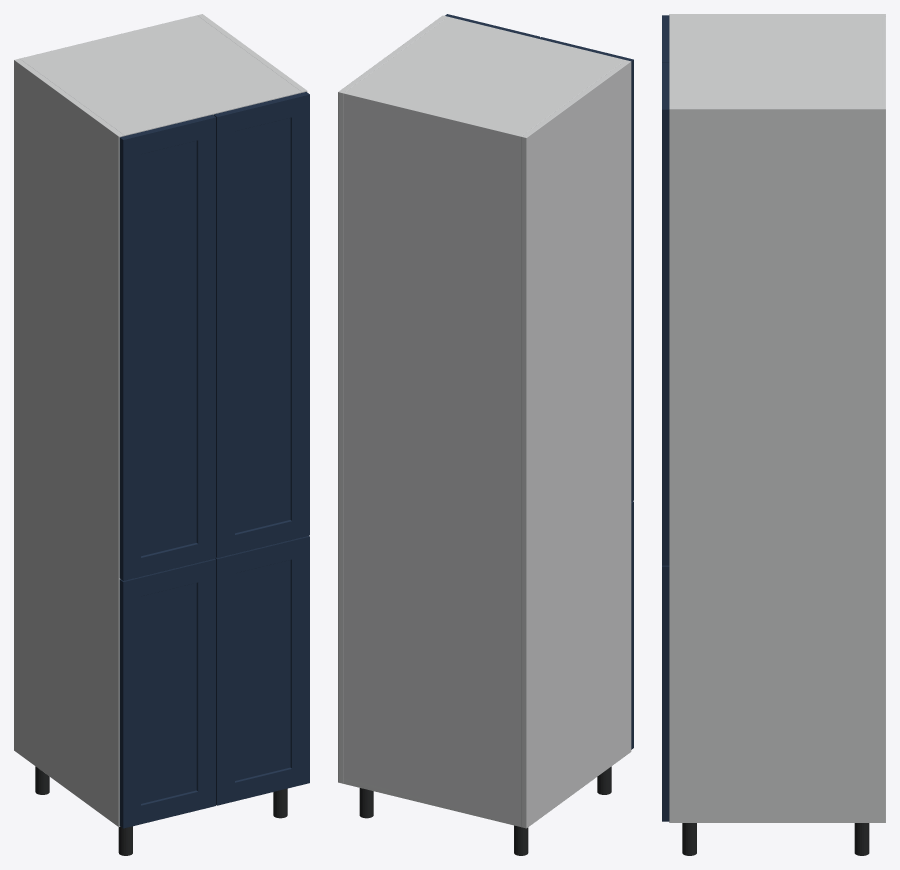
The model's file is oppein-ply-bss-pc2484.glb.
The picture shows the model from 3 angles, left to right: view 1: azimuth 30°, elevation 25°; view 2: azimuth 150°, elevation 25°; view 3: azimuth 270°, elevation 25°; orthographic projection. The views are drawn at different scales.
Visible parts, largest first — view 1: Cabinet side, Upper pantry door, Upper pantry door.001, Lower pantry door, Lower pantry door.001, Cabinet top, Cabinet side.001; view 2: Cabinet back, Cabinet side, Cabinet top, Cabinet side.001, Upper pantry door, Lower pantry door, Cabinet bottom; view 3: Cabinet side.001, Cabinet top, Upper pantry door.001, Lower pantry door.001, Cabinet side, Adjustable foot.002, Adjustable foot.003, Cabinet back.
Boxes of the visible parts, x1=… form: Cabinet side: x1=14, y1=58, x2=124, y2=826; Upper pantry door: x1=119, y1=114, x2=215, y2=580; Upper pantry door.001: x1=213, y1=92, x2=309, y2=557; Lower pantry door: x1=119, y1=558, x2=215, y2=828; Lower pantry door.001: x1=215, y1=535, x2=309, y2=805; Cabinet top: x1=22, y1=17, x2=301, y2=135; Cabinet side.001: x1=197, y1=14, x2=307, y2=92; Cabinet back: x1=343, y1=92, x2=522, y2=826; Cabinet side: x1=521, y1=60, x2=631, y2=828; Cabinet top: x1=344, y1=17, x2=625, y2=140; Cabinet side.001: x1=338, y1=15, x2=447, y2=783; Upper pantry door: x1=539, y1=37, x2=633, y2=501; Lower pantry door: x1=631, y1=501, x2=633, y2=749; Cabinet bottom: x1=343, y1=778, x2=520, y2=826; Cabinet side.001: x1=669, y1=106, x2=885, y2=822; Cabinet top: x1=669, y1=16, x2=881, y2=106; Upper pantry door.001: x1=662, y1=62, x2=669, y2=565; Lower pantry door.001: x1=662, y1=565, x2=669, y2=821; Cabinet side: x1=669, y1=14, x2=885, y2=16; Adjustable foot.002: x1=854, y1=823, x2=869, y2=855; Adjustable foot.003: x1=682, y1=823, x2=696, y2=855; Cabinet back: x1=881, y1=16, x2=885, y2=106.
Bounding box in the file's own units: 0.6096 × 2.25 × 0.6064.
